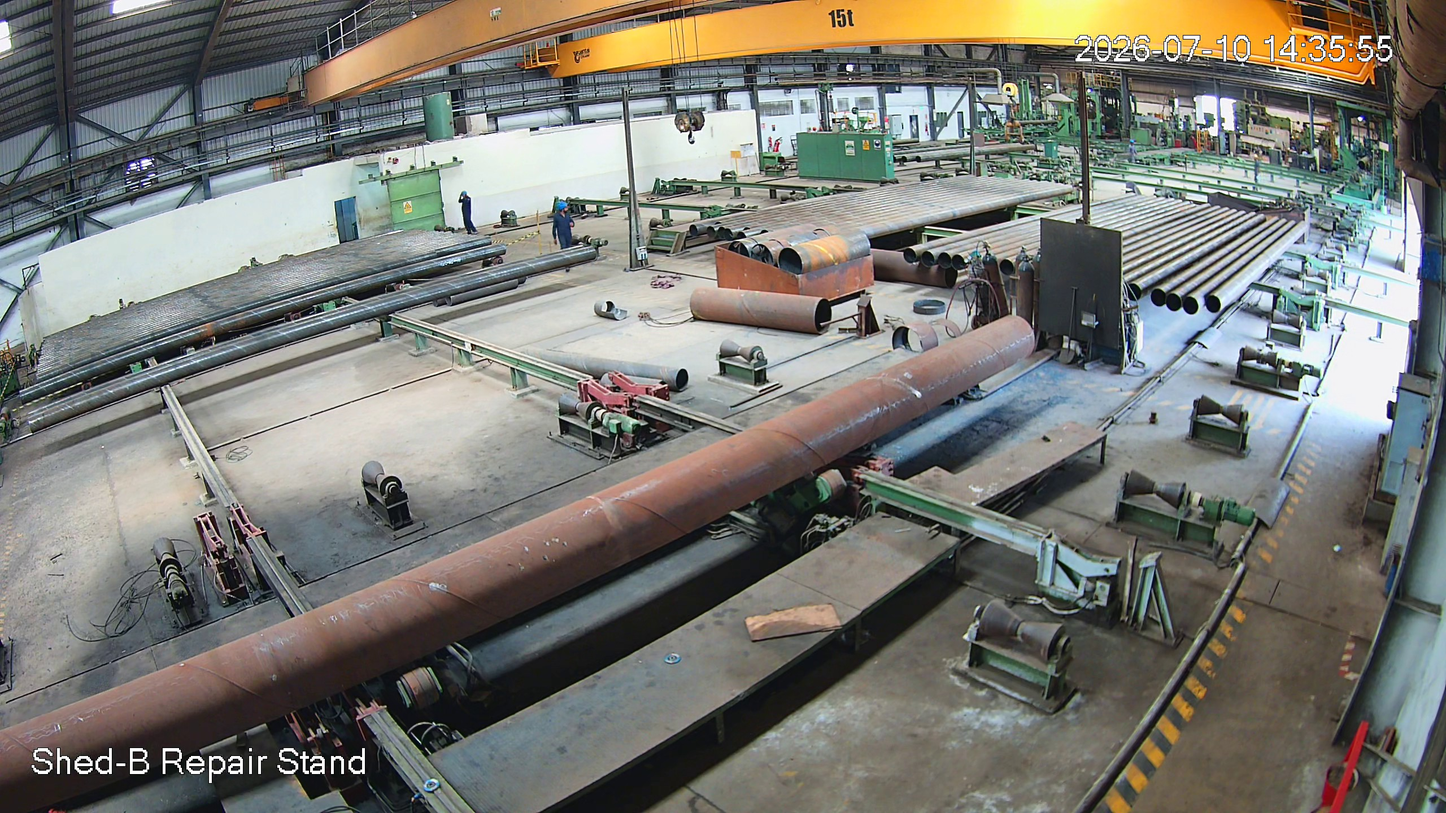Helmet: (557, 201, 574, 217)
Person: (551, 203, 577, 261)
